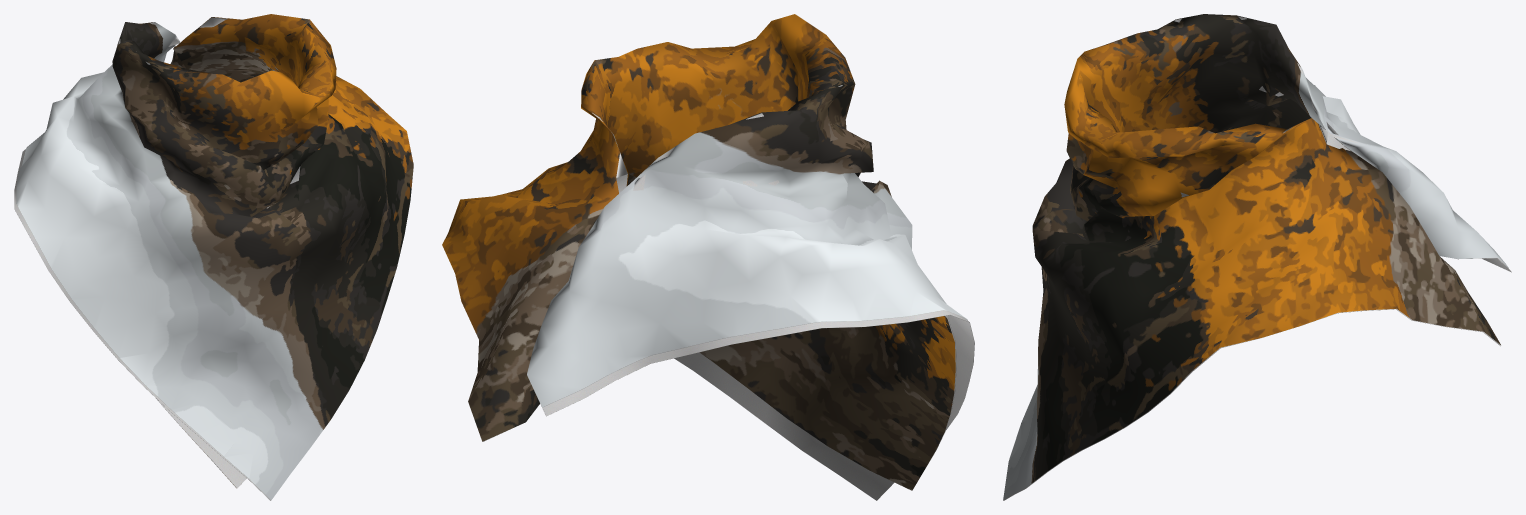
The model's file is handkerchiefnew.fbx.
The picture shows the model from 3 angles, left to right: view 1: azimuth 30°, elevation 25°; view 2: azimuth 150°, elevation 25°; view 3: azimuth 270°, elevation 25°; orthographic projection. The views are drawn at different scales.
Parts seen in each view (by area): view 1: MatShape_8046, Pattern2D_9950; view 2: MatShape_8046, Pattern2D_9950; view 3: MatShape_8046, Pattern2D_9950.
Part boxes in pixels (x1,y1,x2,y2): MatShape_8046: (16, 14, 413, 500); Pattern2D_9950: (14, 17, 300, 500); MatShape_8046: (442, 14, 967, 490); Pattern2D_9950: (483, 85, 974, 500); MatShape_8046: (1003, 14, 1508, 500); Pattern2D_9950: (1003, 16, 1511, 500).
Bounding box in the file's own units: 24.01 × 23.67 × 23.68.
